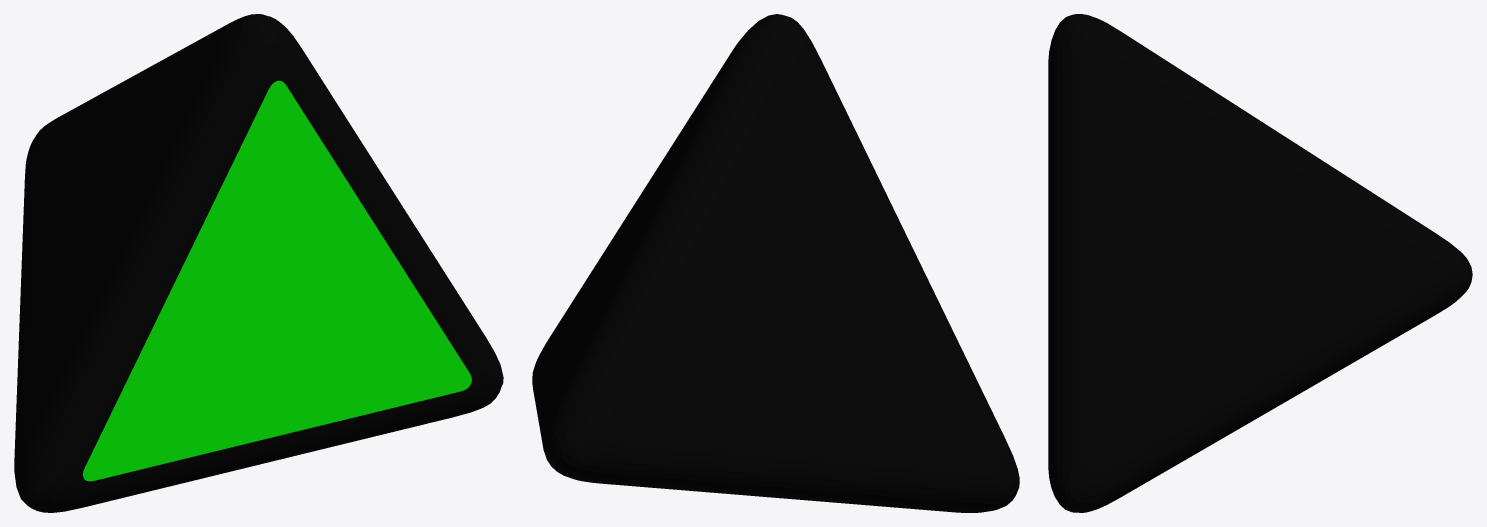
The picture shows the model from 3 angles, left to right: view 1: azimuth 30°, elevation 25°; view 2: azimuth 150°, elevation 25°; view 3: azimuth 270°, elevation 25°; orthographic projection. The views are drawn at different scales.
Visible parts, largest first — view 1: t_gy; view 2: t_gy; view 3: t_gy.
Boxes of the visible parts, <box> form: t_gy: <box>14,14,503,512</box>; t_gy: <box>532,14,1019,512</box>; t_gy: <box>1048,14,1472,512</box>.
Size of the model in its own units: 135 by 121 by 115.
